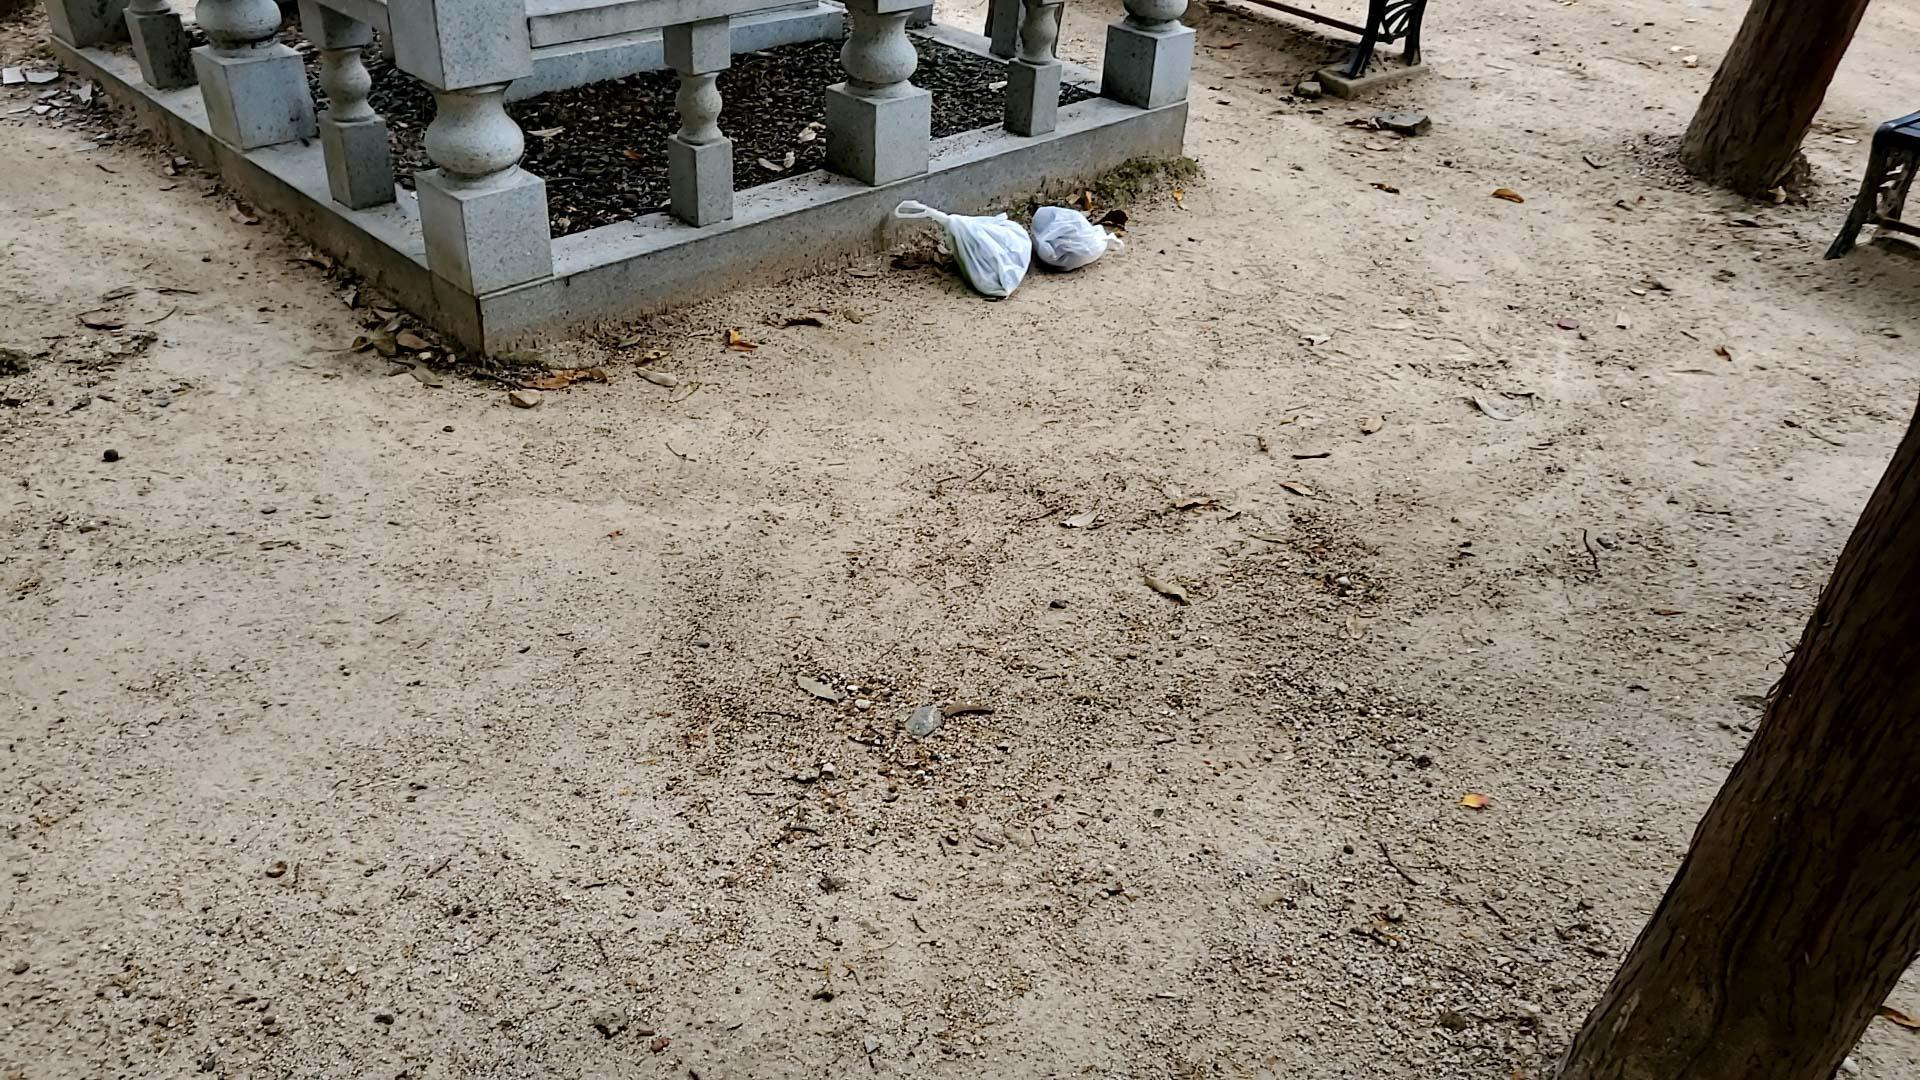white_bag: (886, 189, 1038, 309), (1029, 200, 1127, 273)
